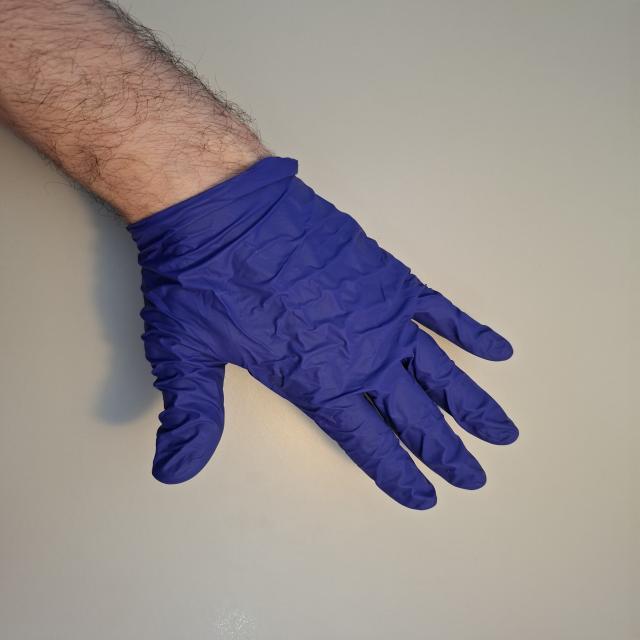glove_on: (120, 148, 522, 513)
